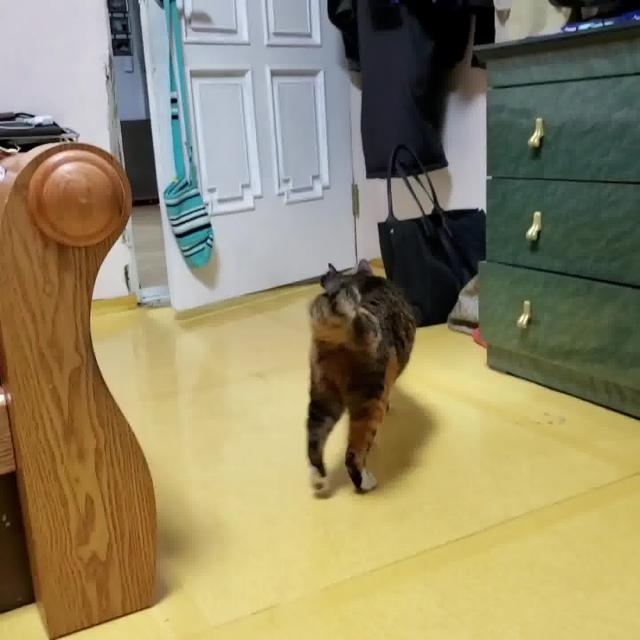cat: (297, 255, 420, 500)
